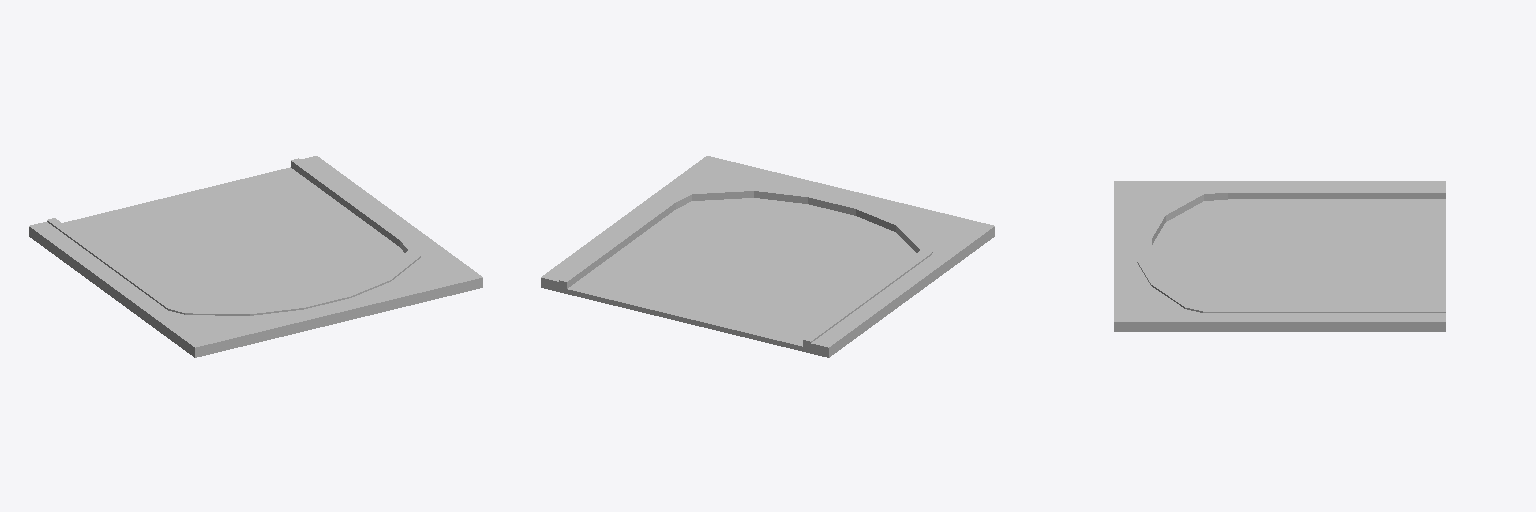
File: Road6_End.obj
3 renders of one model, left to right at view 1: azimuth 30°, elevation 25°; view 2: azimuth 150°, elevation 25°; view 3: azimuth 270°, elevation 25°, orthographic.
Parts seen in each view (by area): view 1: Road6_End_Road6_EndMaterial; view 2: Road6_End_Road6_EndMaterial; view 3: Road6_End_Road6_EndMaterial.
Boxes of the visible parts, x1=… form: Road6_End_Road6_EndMaterial: x1=29, y1=156, x2=482, y2=357; Road6_End_Road6_EndMaterial: x1=541, y1=156, x2=994, y2=357; Road6_End_Road6_EndMaterial: x1=1114, y1=181, x2=1445, y2=331.
Size of the model in its own units: 12 by 0.4753 by 12.